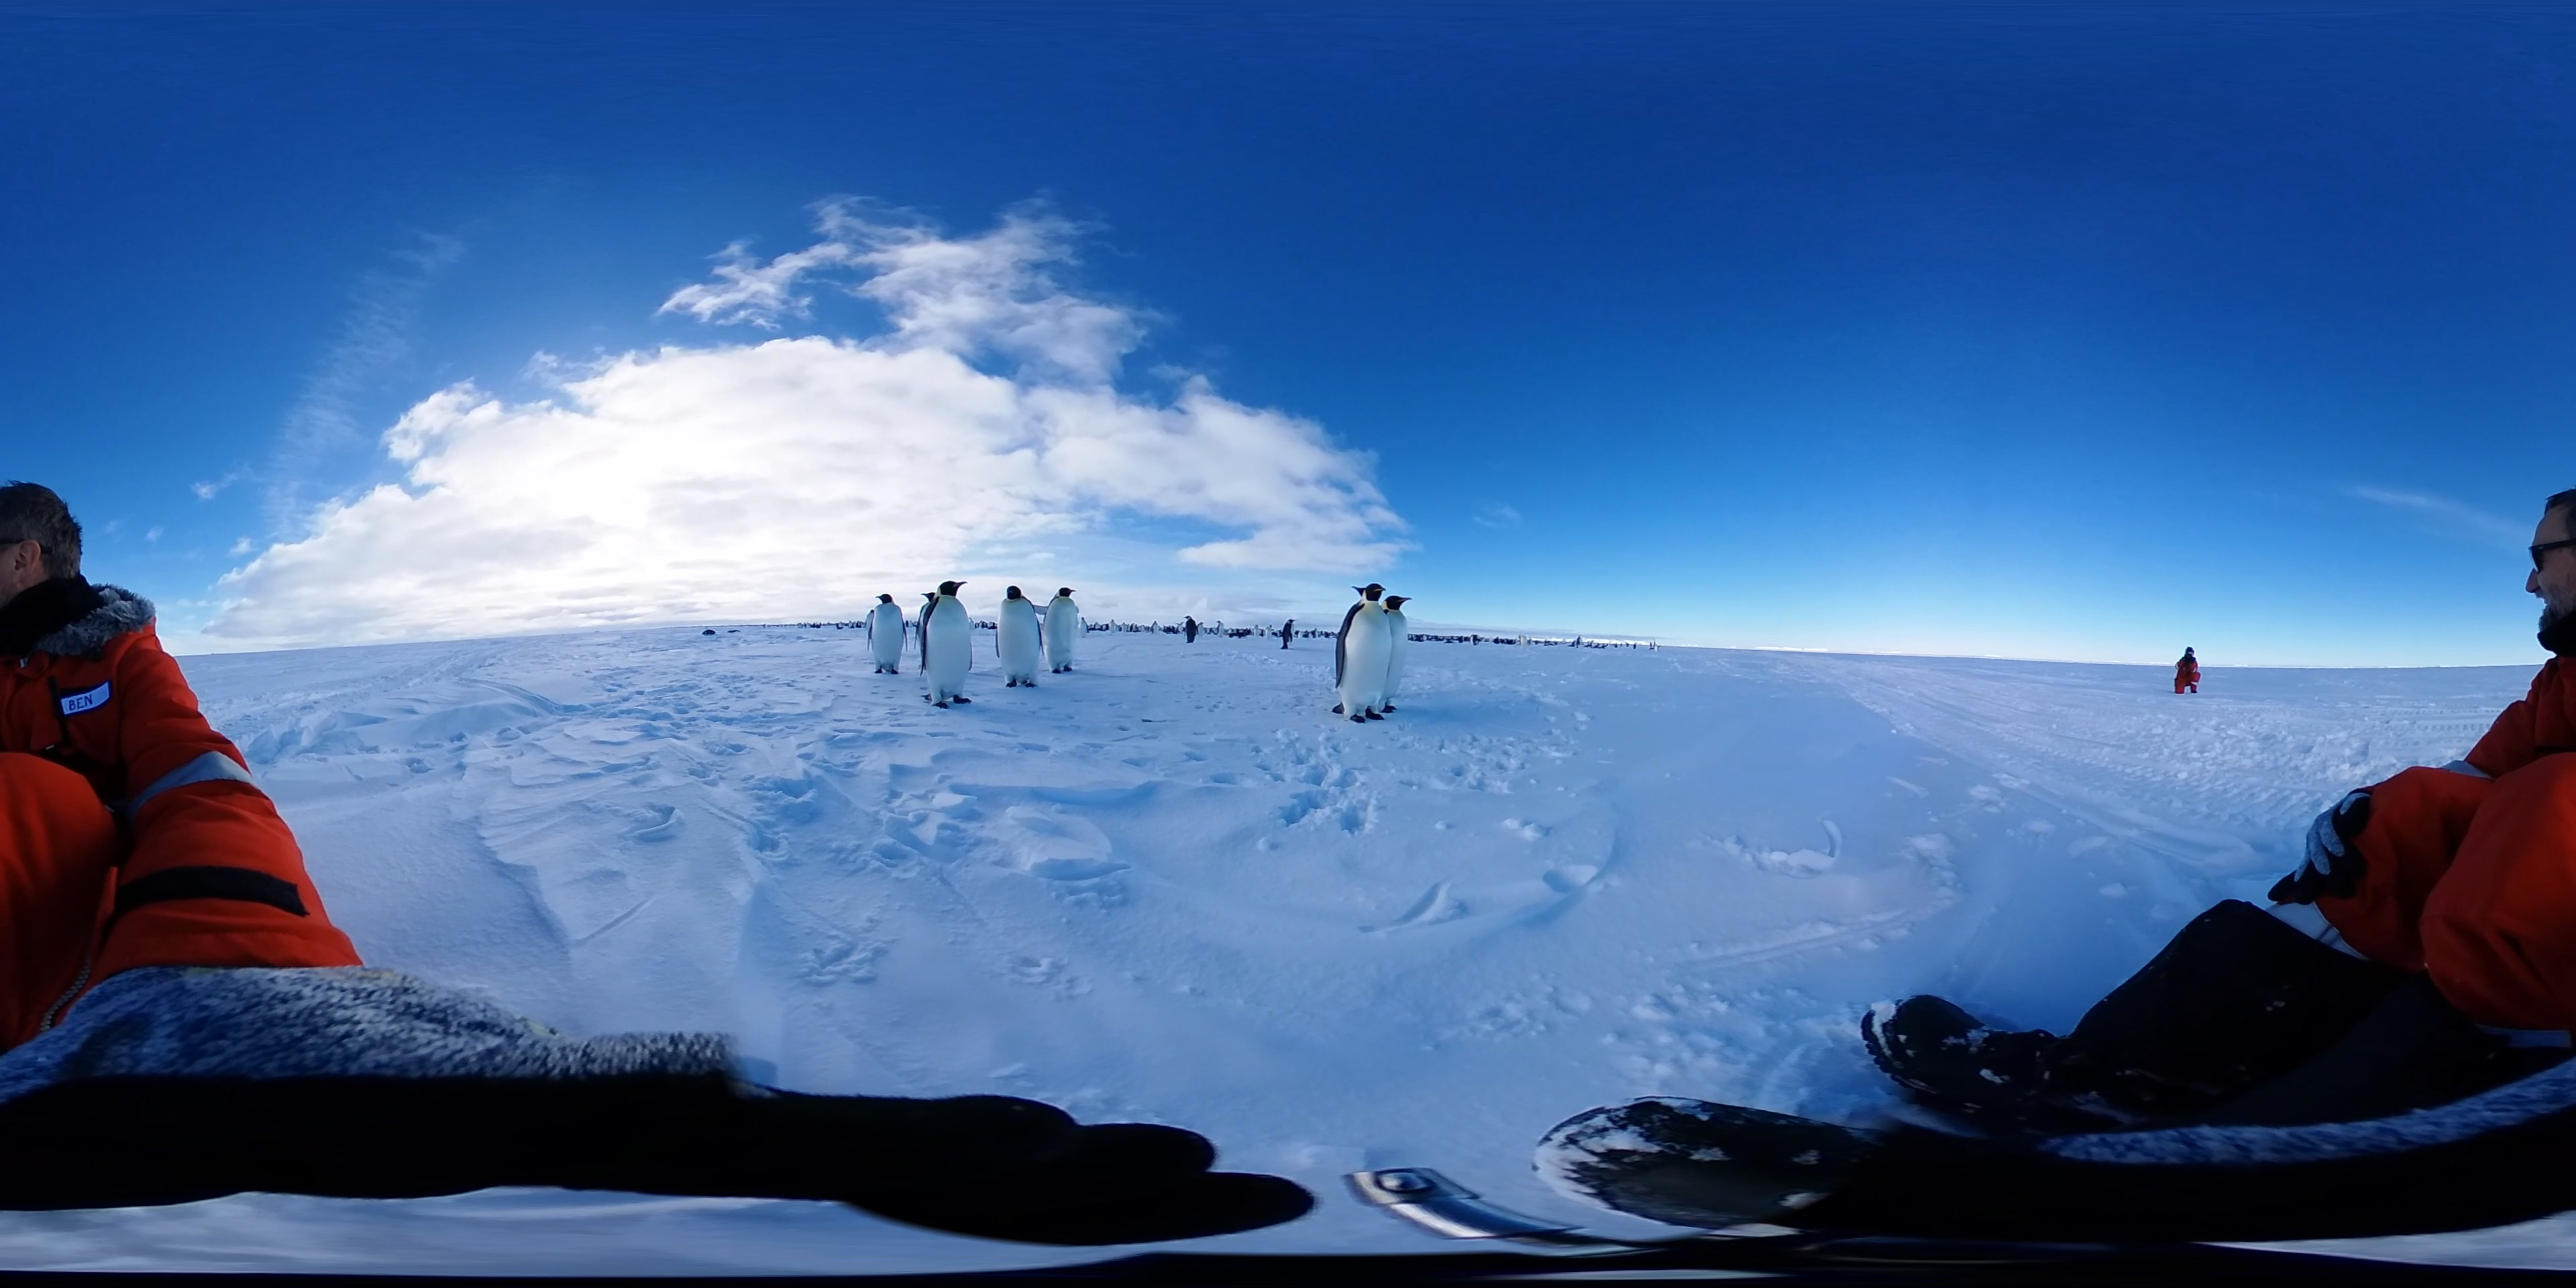adult_standing_penguin: (1327, 582, 1390, 726), (922, 580, 976, 710), (992, 585, 1040, 690), (1375, 593, 1414, 716), (866, 593, 910, 678), (1040, 583, 1078, 678), (1281, 618, 1296, 652), (1183, 614, 1196, 646)
researcher: (1858, 480, 2574, 1068), (0, 453, 381, 1046), (2169, 642, 2210, 700)
